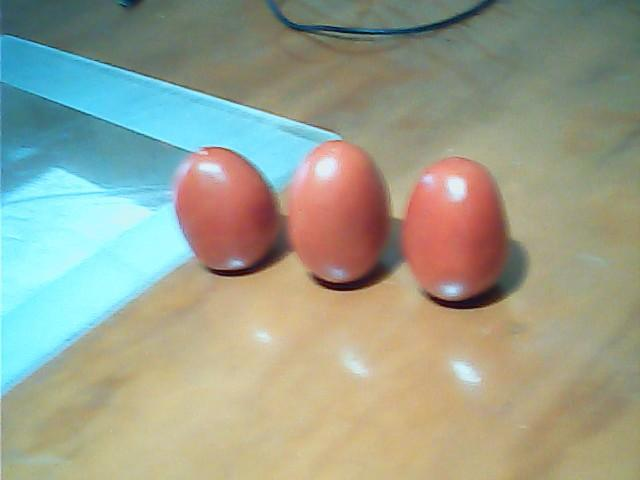maduro: (401, 159, 505, 302), (288, 140, 386, 285), (176, 148, 276, 270)
